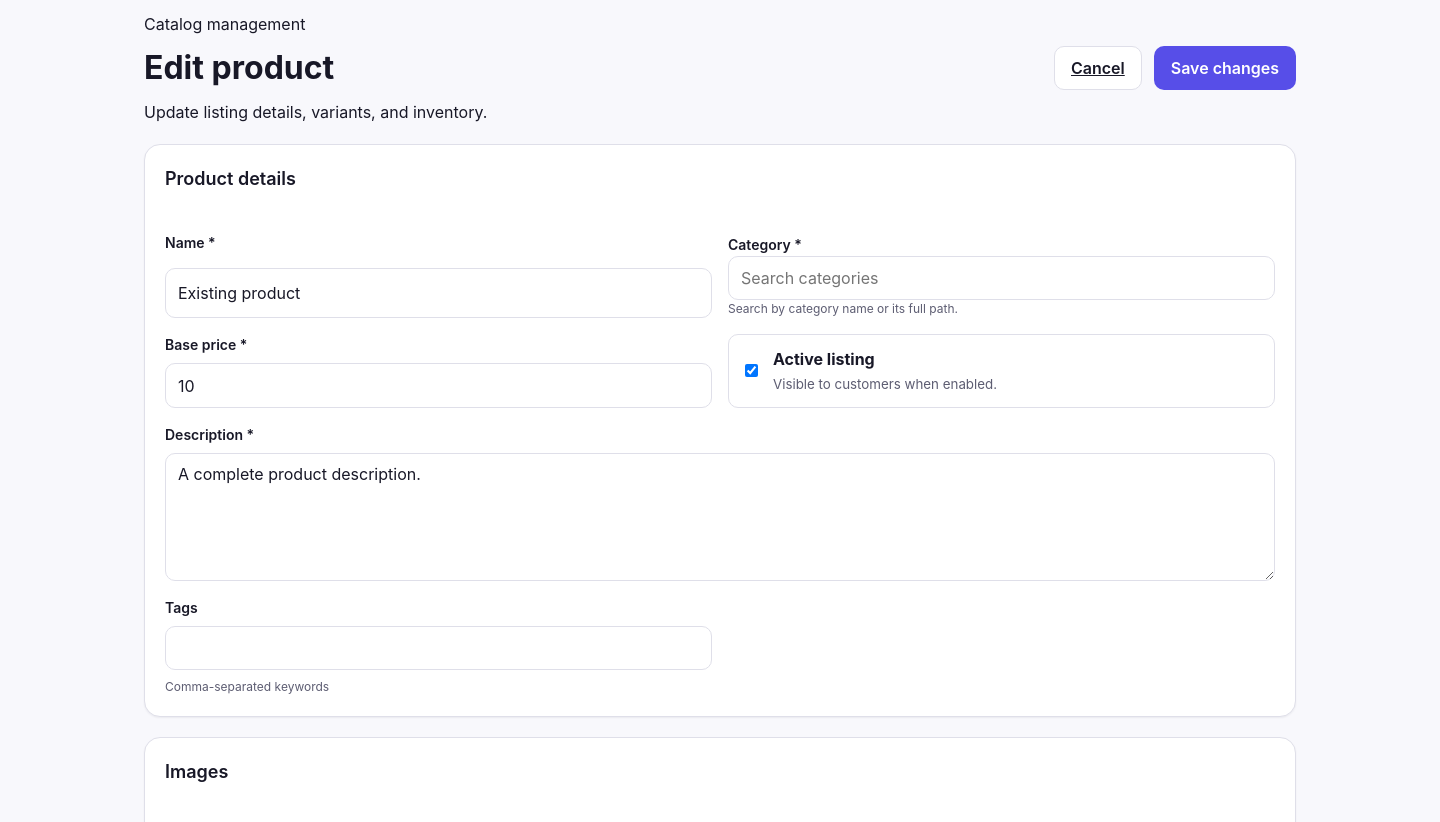
Test: product form navigation protection › does not submit an edit with a category that is no longer available
The width and height of the screenshot is (1440, 822).
Click the button "Save changes" at (1225, 68), box [1154, 46, 1296, 90]
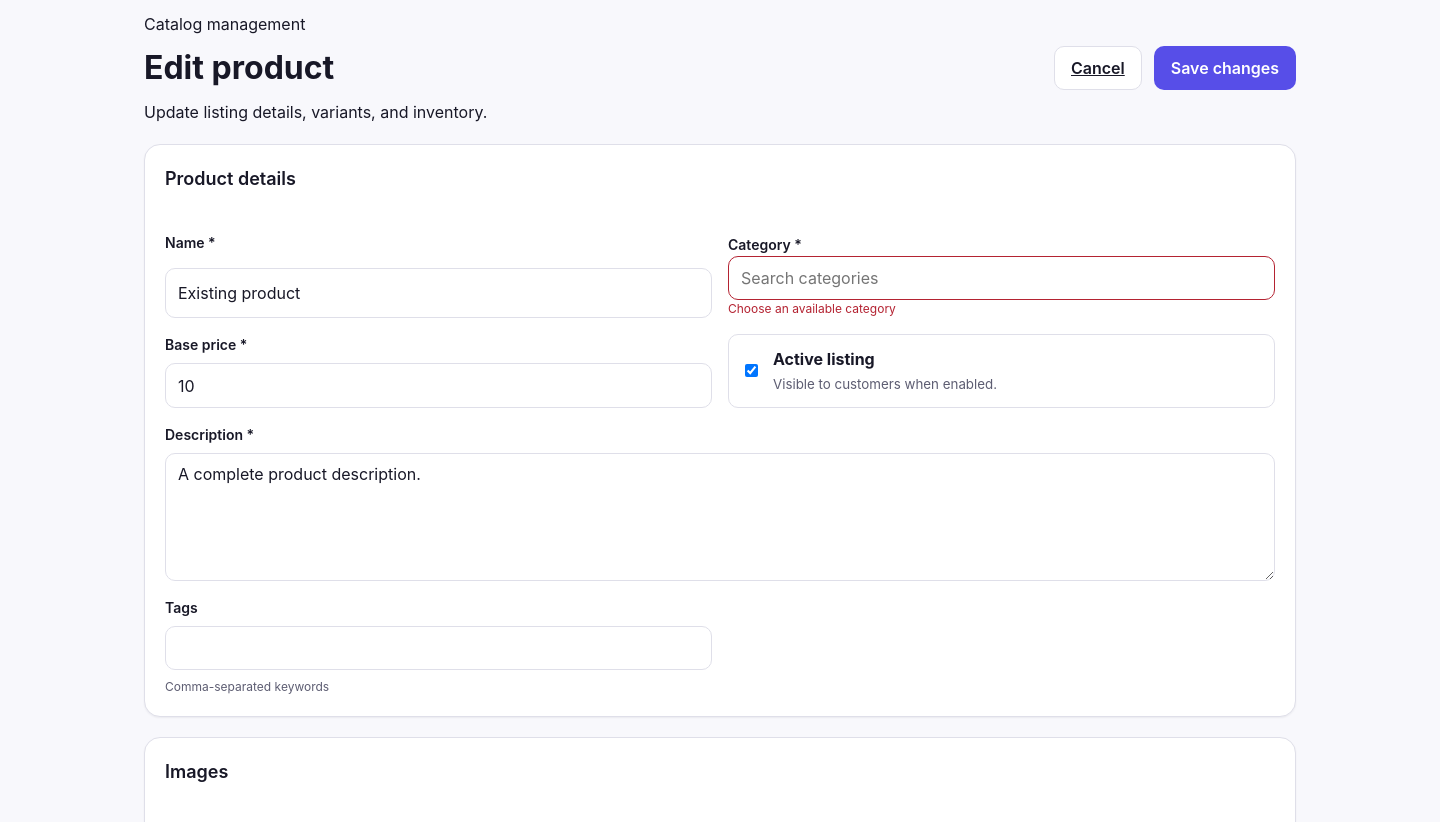
Check: the text "Choose an available category" is shown, box [728, 301, 896, 316]
